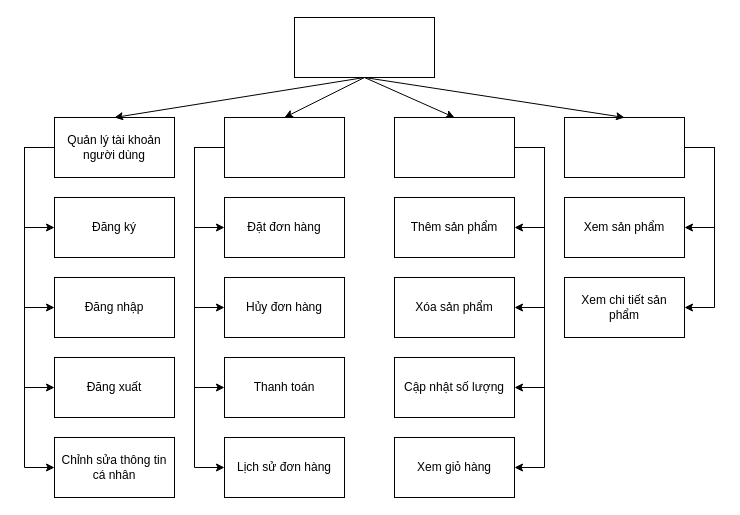
Some shapes in this 740 by 515 pixel diagram are drawn without their labels. Each missing label, with the centre of its shape:
"App bán giày" belongs at pixel 364 47.
"Quản lý giỏ hàng" belongs at pixel 454 147.
"Quản lý sản phẩm" belongs at pixel 624 147.
"Quản lý đơn hàng" belongs at pixel 284 147.
